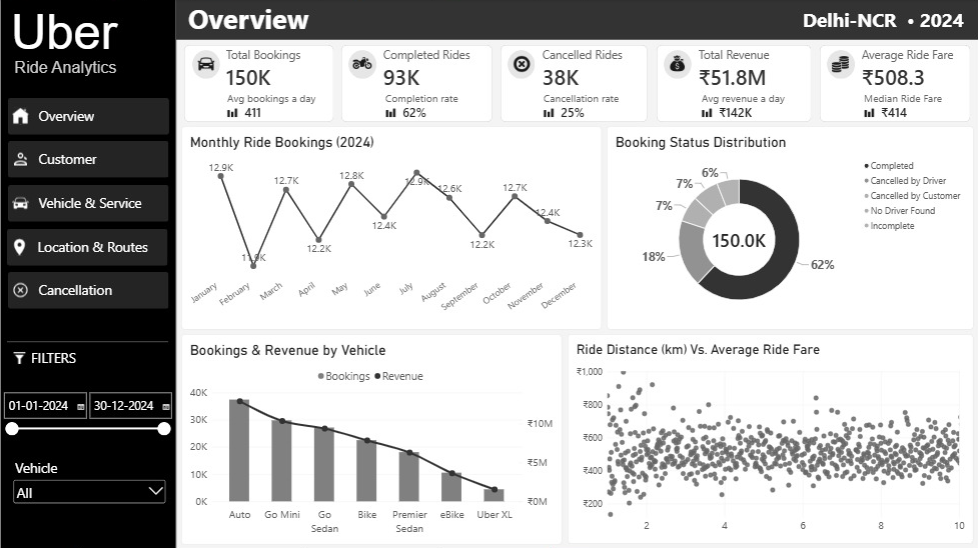

The page's visual inventory and layout, read from the dashboard file:
{"tool":"powerbi","page":{"name":"Overview","canvas":[1920,1080],"ordinal":0},"visuals":[{"type":"group","id":"g1","title":"Group 3","box":[356,116,253,128.9],"z":0},{"type":"shape","box":[1556.8,121,49.1,45.7],"z":0,"group":"g9"},{"type":"shape","box":[365,123.7,41.2,39],"z":0,"group":"g10"},{"type":"shape","box":[1033.5,123.7,41,39],"z":0,"group":"g11"},{"type":"shape","box":[588.5,124.9,41,39],"z":0,"group":"g12"},{"type":"shape","box":[811,124.9,41,39],"z":0,"group":"g13"},{"type":"shape","box":[1256,124.9,41,39],"z":0,"group":"g14"},{"type":"shape","box":[346,0,1574,98],"z":1000},{"type":"image","box":[1562.2,128.4,37.1,29.3],"z":1000,"group":"g9"},{"type":"image","box":[1037,129,33,30],"z":1000,"group":"g11"},{"type":"image","box":[813,130,34,27],"z":1000,"group":"g13"},{"type":"image","box":[1261,131,31.5,25],"z":1000,"group":"g14"},{"type":"image","box":[369.8,131.9,31.7,22.6],"z":1000,"group":"g10"},{"type":"image","box":[593,132,33,26],"z":1000,"group":"g12"},{"type":"shape","box":[0,0,346,1080],"z":2000},{"type":"group","id":"g2","title":"Group 4","box":[579.5,117.2,252,128.9],"z":3000},{"type":"textbox","box":[21,10,226,144],"z":4000},{"type":"group","id":"g3","title":"Group 5","box":[802,117.2,252,128.9],"z":5000},{"type":"textbox","box":[16,115,226,68],"z":6000},{"type":"group","id":"g4","title":"Group 6","box":[1024.5,116,252,128.9],"z":7000},{"type":"actionButton","box":[16,194,316,72],"z":8000},{"type":"group","id":"g5","title":"Group 7","box":[1247,117.2,253,128.9],"z":9000},{"type":"shape","box":[14,650,316,46],"z":10000},{"type":"group","id":"g6","title":"Group 8","box":[1546,112,304,142],"z":11000},{"type":"group","id":"g7","title":"Group 2","box":[356,116,253,128.9],"z":12000,"group":"g1"},{"type":"actionButton","box":[16,674,160,64],"z":12000},{"type":"lineChart","title":"Monthly Ride Bookings (2024)","fields":{"Y":["measure_table.total_bookings"],"Category":["fact_ride_booking.booking_date.Variation.Date Hierarchy.Month"]},"box":[356,352,976,344],"z":13000},{"type":"group","id":"g8","title":"Group 2","box":[579.5,117.2,252,128.9],"z":14000,"group":"g2"},{"type":"lineClusteredColumnComboChart","title":"Bookings & Revenue by Vehicle","fields":{"Category":["dim_vehicle.vehicle_type"],"Y":["measure_table.total_bookings"],"Y2":["measure_table.total_revenue"]},"box":[356,706,732,358],"z":14000},{"type":"image","box":[416,215,22.5,21.2],"z":15000,"group":"g1"},{"type":"scatterChart","title":"Ride Distance (km) Vs. Average Ride Fair","fields":{"X":["fact_ride_booking.ride_distance"],"Y":["measure_table.avg_ride_fare"]},"box":[1110,706,794,358],"z":15000},{"type":"cardVisual","fields":{"Data":["measure_table.avg_ride_fare"]},"box":[1546,112,258,151],"z":15001,"group":"g18"},{"type":"cardVisual","fields":{"Data":["CountNonNull(fact_ride_booking.booking_id)"]},"box":[356,116,216.4,128.9],"z":15001,"group":"g7"},{"type":"cardVisual","fields":{"Data":["measure_table.cancelled_rides"]},"box":[1024.5,116,215.6,128.9],"z":15001,"group":"g16"},{"type":"cardVisual","fields":{"Data":["measure_table.completed_rides"]},"box":[579.5,117.2,215.6,128.9],"z":15001,"group":"g8"},{"type":"cardVisual","fields":{"Data":["measure_table.incomplete_rides"]},"box":[802,117.2,215.6,128.9],"z":15001,"group":"g15"},{"type":"cardVisual","fields":{"Data":["measure_table.total_revenue"]},"box":[1247,117.2,215.6,128.9],"z":15001,"group":"g17"},{"type":"group","id":"g9","title":"Group 1","box":[1556.8,121,49.1,45.7],"z":15501,"group":"g18"},{"type":"group","id":"g10","title":"Group 1","box":[365,123.7,41.2,39],"z":15501,"group":"g7"},{"type":"group","id":"g11","title":"Group 1","box":[1033.5,123.7,41,39],"z":15501,"group":"g16"},{"type":"group","id":"g12","title":"Group 1","box":[588.5,124.9,41,39],"z":15501,"group":"g8"},{"type":"group","id":"g13","title":"Group 1","box":[811,124.9,41,39],"z":15501,"group":"g15"},{"type":"group","id":"g14","title":"Group 1","box":[1256,124.9,41,39],"z":15501,"group":"g17"},{"type":"group","id":"g15","title":"Group 2","box":[802,117.2,252,128.9],"z":16000,"group":"g3"},{"type":"donutChart","title":"Booking Status Distribution","fields":{"Y":["measure_table.total_bookings"],"Category":["fact_ride_booking.booking_status"]},"box":[1354,352,558,344],"z":16000},{"type":"actionButton","box":[415.2,184.7,193.8,40],"z":16002,"group":"g7"},{"type":"actionButton","box":[1083.5,184.7,193,40],"z":16002,"group":"g16"},{"type":"actionButton","box":[638.5,185.9,193,40],"z":16002,"group":"g8"},{"type":"actionButton","box":[861,185.9,193,40],"z":16002,"group":"g15"},{"type":"actionButton","box":[1307,185.9,193,40],"z":16002,"group":"g17"},{"type":"actionButton","box":[1619.6,192.5,231,46.9],"z":16002,"group":"g18"},{"type":"cardVisual","fields":{"Data":["measure_table.avg_bookings_per_day"]},"box":[428.8,213.5,83.3,23],"z":16502,"group":"g7"},{"type":"cardVisual","fields":{"Data":["measure_table.cancellation_rate"]},"box":[1105,214,83,23],"z":16502,"group":"g16"},{"type":"cardVisual","fields":{"Data":["measure_table.completion_rate"]},"box":[654,215,83,23],"z":16502,"group":"g8"},{"type":"cardVisual","fields":{"Data":["measure_table.incomplete_rate"]},"box":[876,216,83,23],"z":16502,"group":"g15"},{"type":"cardVisual","fields":{"Data":["measure_table.revenue_per_day"]},"box":[1325,216,112.2,23.3],"z":16502,"group":"g17"},{"type":"cardVisual","fields":{"Data":["measure_table.median_ride_fare"]},"box":[1640,225.7,113,28.6],"z":16502,"group":"g18"},{"type":"textbox","box":[1575,28,328,72],"z":17000},{"type":"image","box":[641,215,22.5,21.2],"z":17000,"group":"g2"},{"type":"textbox","box":[370,8,278,72],"z":18000},{"type":"group","id":"g16","title":"Group 2","box":[1024.5,116,252,128.9],"z":18000,"group":"g4"},{"type":"image","box":[862,217.2,22.5,21.2],"z":19000,"group":"g3"},{"type":"actionButton","box":[16,279,315,72],"z":19000},{"type":"image","box":[1088,214.8,22.5,21.2],"z":20000,"group":"g4"},{"type":"actionButton","box":[16,365,315,72],"z":20000},{"type":"actionButton","box":[14,451,315,72],"z":21000},{"type":"actionButton","box":[16,537,315,72],"z":22000},{"type":"group","id":"g17","title":"Group 2","box":[1247,117.2,253,128.9],"z":23000,"group":"g5"},{"type":"slicer","fields":{"Values":["dim_vehicle.vehicle_type"]},"box":[22,902,308,102],"z":23000},{"type":"group","id":"g18","title":"Group 2","box":[1546,112,304.6,151],"z":24000,"group":"g6"},{"type":"slicer","fields":{"Values":["fact_ride_booking.booking_date"]},"box":[0,768,338,118],"z":24000},{"type":"image","box":[1309,217.2,22.5,21.2],"z":25000,"group":"g5"},{"type":"image","box":[1622.3,228,26.9,24.9],"z":26000,"group":"g6"}]}

Visuals, with their boxes on the page's 1920x1080 design canvas (x1, y1, x2, y2). These are canvas units, not pixel positions in the 978x548 screenshot, which may show the page scaled, cropped or inside an application window:
"Group 3" group: x1=356, y1=116, x2=609, y2=245
shape: x1=1557, y1=121, x2=1606, y2=167
shape: x1=365, y1=124, x2=406, y2=163
shape: x1=1034, y1=124, x2=1074, y2=163
shape: x1=588, y1=125, x2=630, y2=164
shape: x1=811, y1=125, x2=852, y2=164
shape: x1=1256, y1=125, x2=1297, y2=164
shape: x1=346, y1=0, x2=1920, y2=98
image: x1=1562, y1=128, x2=1599, y2=158
image: x1=1037, y1=129, x2=1070, y2=159
image: x1=813, y1=130, x2=847, y2=157
image: x1=1261, y1=131, x2=1292, y2=156
image: x1=370, y1=132, x2=402, y2=154
image: x1=593, y1=132, x2=626, y2=158
shape: x1=0, y1=0, x2=346, y2=1080
"Group 4" group: x1=580, y1=117, x2=832, y2=246
textbox: x1=21, y1=10, x2=247, y2=154
"Group 5" group: x1=802, y1=117, x2=1054, y2=246
textbox: x1=16, y1=115, x2=242, y2=183
"Group 6" group: x1=1024, y1=116, x2=1276, y2=245
actionButton: x1=16, y1=194, x2=332, y2=266
"Group 7" group: x1=1247, y1=117, x2=1500, y2=246
shape: x1=14, y1=650, x2=330, y2=696
"Group 8" group: x1=1546, y1=112, x2=1850, y2=254
"Group 2" group: x1=356, y1=116, x2=609, y2=245
actionButton: x1=16, y1=674, x2=176, y2=738
"Monthly Ride Bookings (2024)" lineChart: x1=356, y1=352, x2=1332, y2=696
"Group 2" group: x1=580, y1=117, x2=832, y2=246
"Bookings & Revenue by Vehicle" lineClusteredColumnComboChart: x1=356, y1=706, x2=1088, y2=1064
image: x1=416, y1=215, x2=438, y2=236
"Ride Distance (km) Vs. Average Ride Fair" scatterChart: x1=1110, y1=706, x2=1904, y2=1064
cardVisual - measure_table.avg_ride_fare: x1=1546, y1=112, x2=1804, y2=263
cardVisual - CountNonNull(fact_ride_booking.booking_id): x1=356, y1=116, x2=572, y2=245
cardVisual - measure_table.cancelled_rides: x1=1024, y1=116, x2=1240, y2=245
cardVisual - measure_table.completed_rides: x1=580, y1=117, x2=795, y2=246
cardVisual - measure_table.incomplete_rides: x1=802, y1=117, x2=1018, y2=246
cardVisual - measure_table.total_revenue: x1=1247, y1=117, x2=1463, y2=246
"Group 1" group: x1=1557, y1=121, x2=1606, y2=167
"Group 1" group: x1=365, y1=124, x2=406, y2=163
"Group 1" group: x1=1034, y1=124, x2=1074, y2=163
"Group 1" group: x1=588, y1=125, x2=630, y2=164
"Group 1" group: x1=811, y1=125, x2=852, y2=164
"Group 1" group: x1=1256, y1=125, x2=1297, y2=164
"Group 2" group: x1=802, y1=117, x2=1054, y2=246
"Booking Status Distribution" donutChart: x1=1354, y1=352, x2=1912, y2=696
actionButton: x1=415, y1=185, x2=609, y2=225
actionButton: x1=1084, y1=185, x2=1276, y2=225
actionButton: x1=638, y1=186, x2=832, y2=226
actionButton: x1=861, y1=186, x2=1054, y2=226
actionButton: x1=1307, y1=186, x2=1500, y2=226
actionButton: x1=1620, y1=192, x2=1851, y2=239
cardVisual - measure_table.avg_bookings_per_day: x1=429, y1=214, x2=512, y2=236
cardVisual - measure_table.cancellation_rate: x1=1105, y1=214, x2=1188, y2=237
cardVisual - measure_table.completion_rate: x1=654, y1=215, x2=737, y2=238
cardVisual - measure_table.incomplete_rate: x1=876, y1=216, x2=959, y2=239
cardVisual - measure_table.revenue_per_day: x1=1325, y1=216, x2=1437, y2=239
cardVisual - measure_table.median_ride_fare: x1=1640, y1=226, x2=1753, y2=254
textbox: x1=1575, y1=28, x2=1903, y2=100
image: x1=641, y1=215, x2=664, y2=236
textbox: x1=370, y1=8, x2=648, y2=80
"Group 2" group: x1=1024, y1=116, x2=1276, y2=245
image: x1=862, y1=217, x2=884, y2=238
actionButton: x1=16, y1=279, x2=331, y2=351
image: x1=1088, y1=215, x2=1110, y2=236
actionButton: x1=16, y1=365, x2=331, y2=437
actionButton: x1=14, y1=451, x2=329, y2=523
actionButton: x1=16, y1=537, x2=331, y2=609
"Group 2" group: x1=1247, y1=117, x2=1500, y2=246
slicer - dim_vehicle.vehicle_type: x1=22, y1=902, x2=330, y2=1004
"Group 2" group: x1=1546, y1=112, x2=1851, y2=263
slicer - fact_ride_booking.booking_date: x1=0, y1=768, x2=338, y2=886
image: x1=1309, y1=217, x2=1332, y2=238
image: x1=1622, y1=228, x2=1649, y2=253
